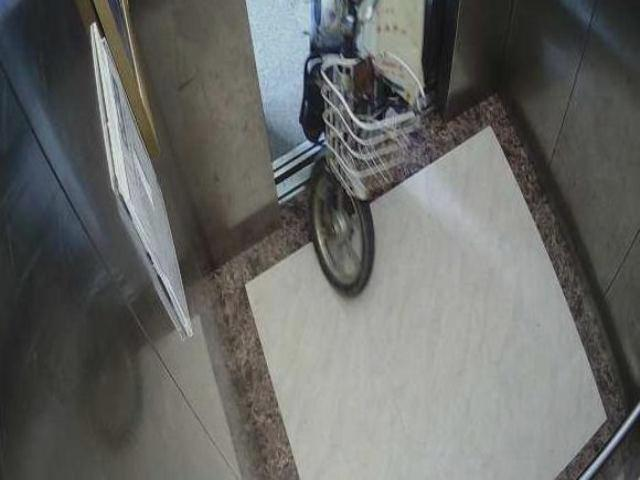emotor: (300, 2, 417, 296)
